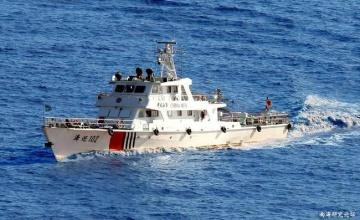otherboat: (38, 35, 312, 161)
